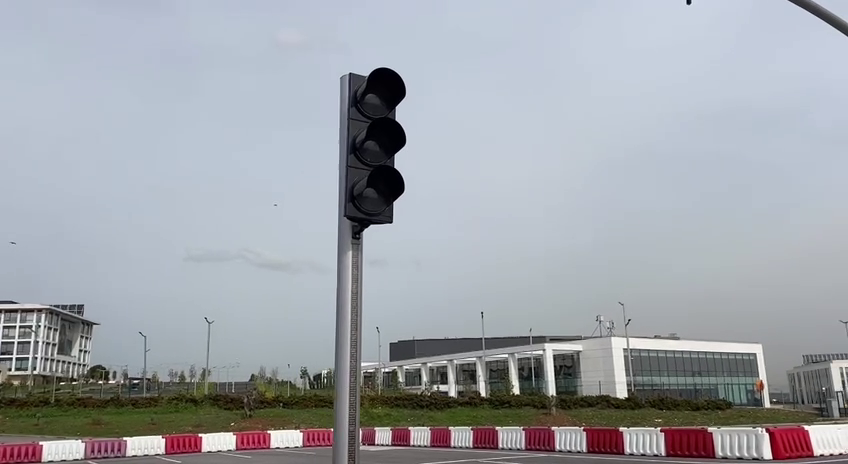trafficLight: (332, 62, 411, 242)
